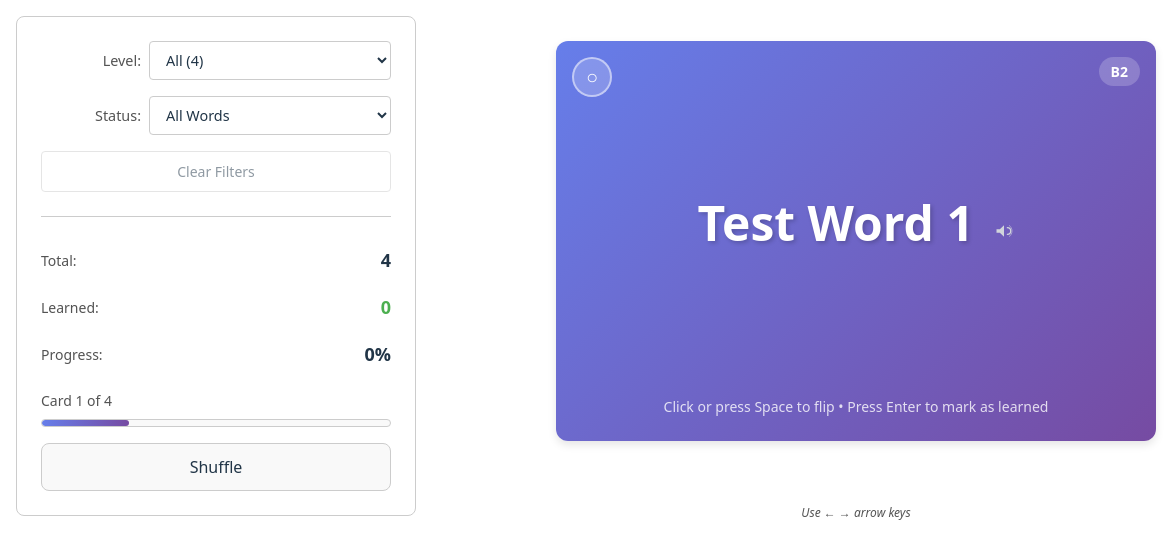
Test case: VocabularyPractice Shuffling › shows correct card count after filtering in shuffle mode
Expected: the text "Card 1 of 4" is shown, [41,391,112,410]
Click the button "Shuffle" at (216, 467), box [41,443,391,491]
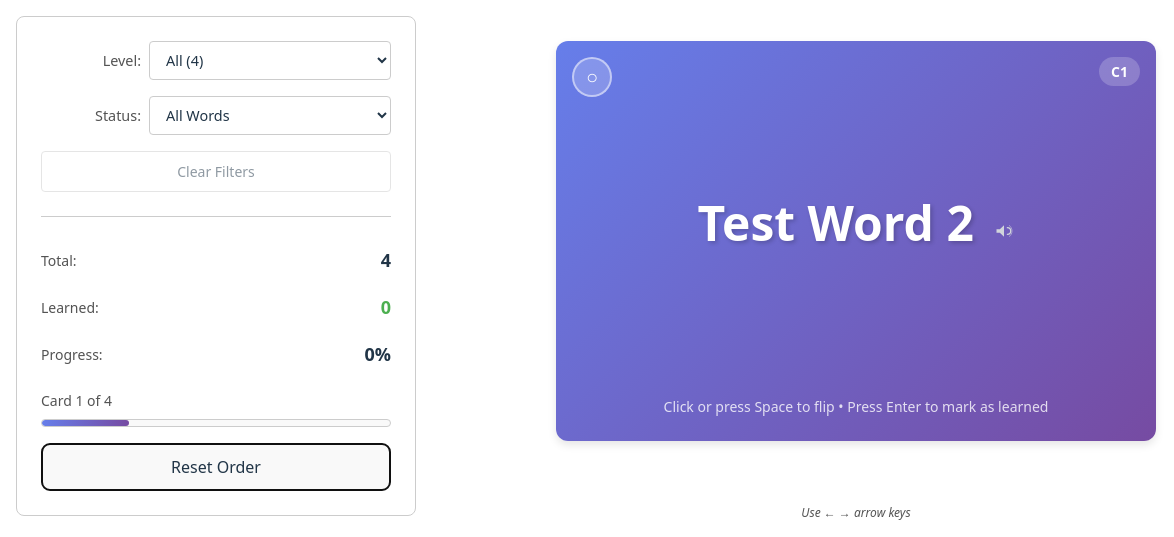
# Filter to C1 (2 words)
Select "C1 (2)" in the dropdown labelled "Level:" at (270, 60), box [149,41,391,80]
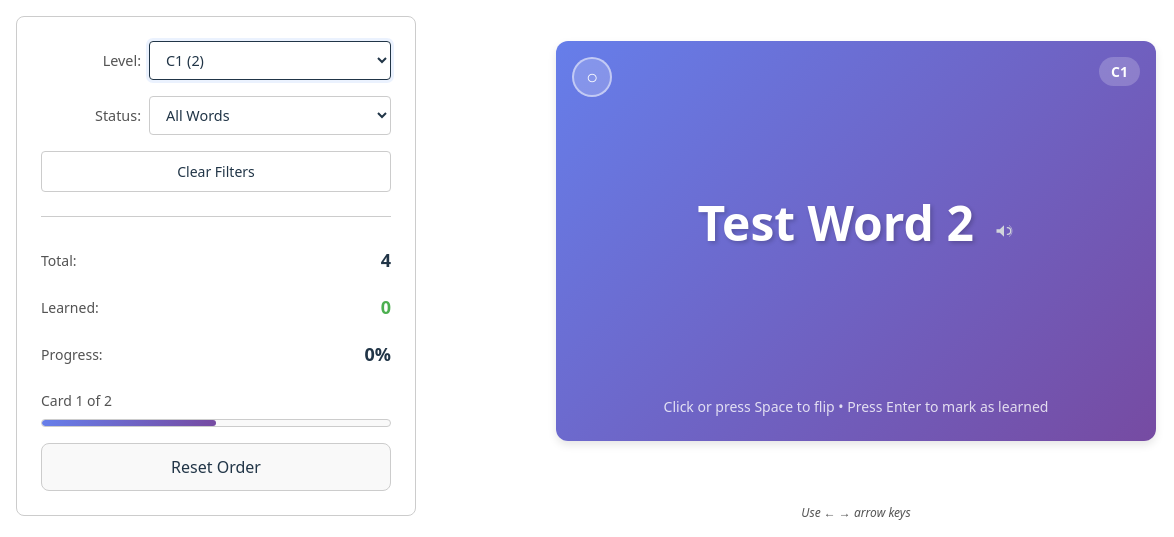
Expected: the text "Card 1 of 2" is shown, [41,391,112,410]
